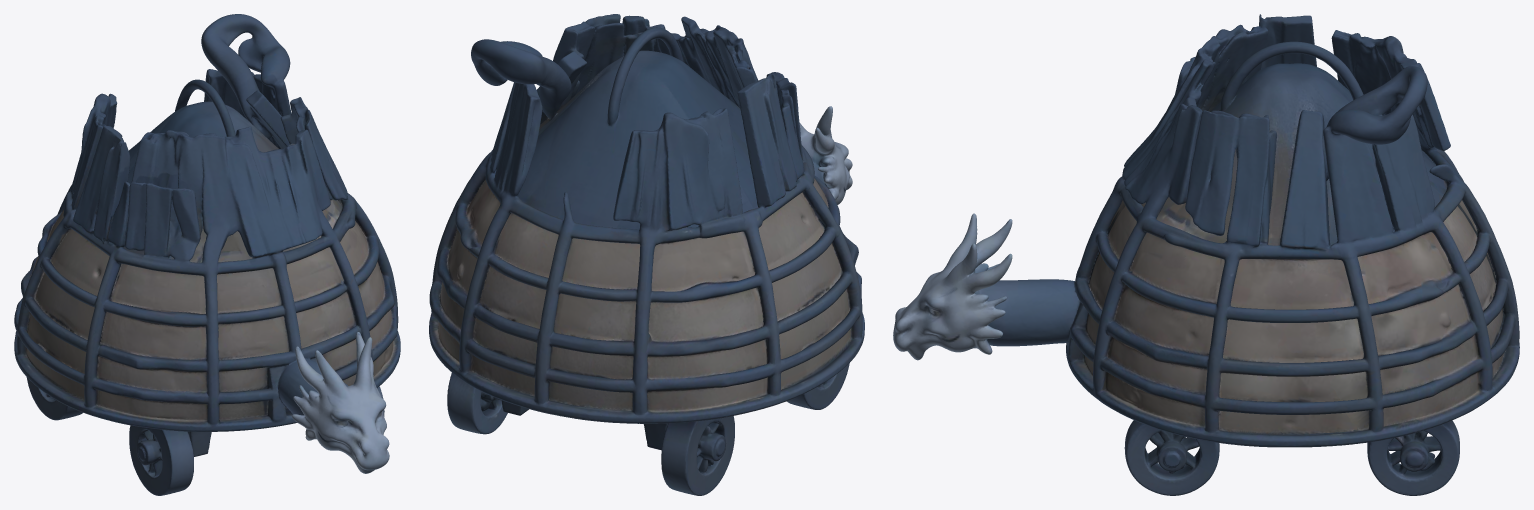
3 renders of one model, left to right at view 1: azimuth 30°, elevation 25°; view 2: azimuth 150°, elevation 25°; view 3: azimuth 270°, elevation 25°, orthographic. The views are drawn at different scales.
Visible parts, largest first — view 1: tripo_node_07116c73-37fd-4cdc-ad32-712c3ddc5fa1; view 2: tripo_node_07116c73-37fd-4cdc-ad32-712c3ddc5fa1; view 3: tripo_node_07116c73-37fd-4cdc-ad32-712c3ddc5fa1.
Boxes of the visible parts, box(x1,y1,x2,y2) form: tripo_node_07116c73-37fd-4cdc-ad32-712c3ddc5fa1: box(14, 14, 400, 495); tripo_node_07116c73-37fd-4cdc-ad32-712c3ddc5fa1: box(429, 14, 864, 495); tripo_node_07116c73-37fd-4cdc-ad32-712c3ddc5fa1: box(893, 14, 1519, 495).
Size of the model in its own units: 0.7155 by 0.731 by 1.
1 material, 1 textured.
